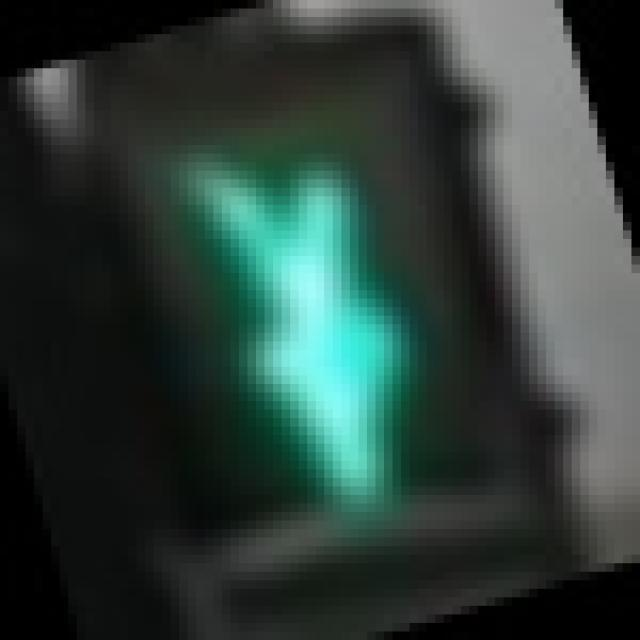geen-crossing: (85, 59, 529, 564)
